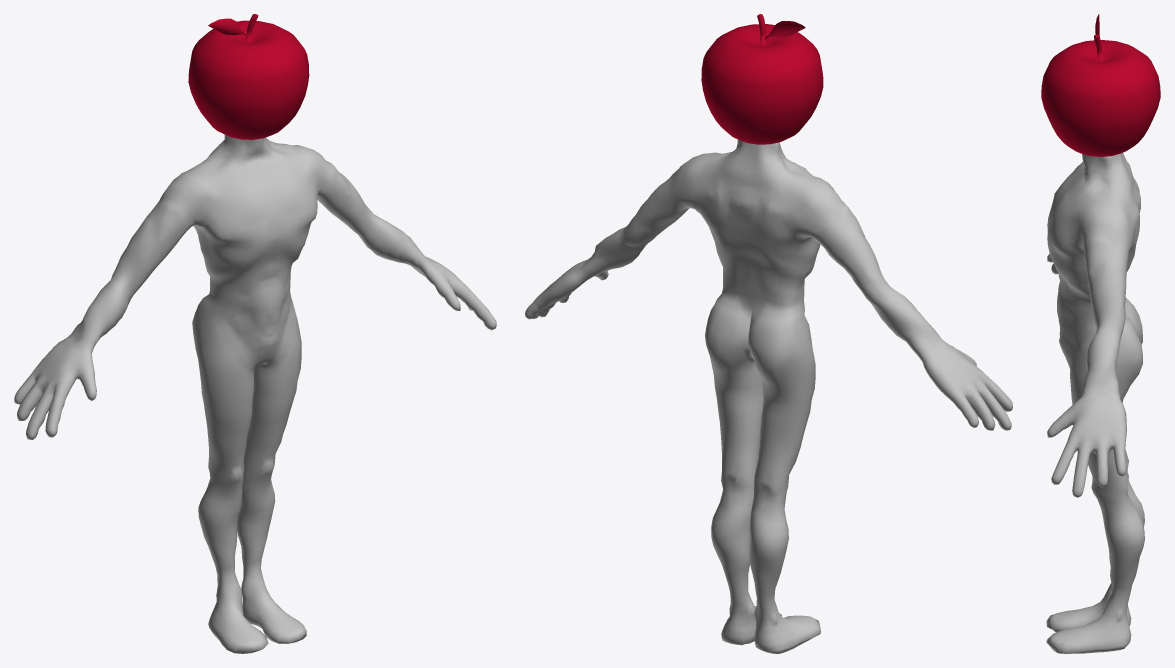
The model's file is appleHuman.fbx.
3 views of the same model, side by side, from view 1: azimuth 30°, elevation 25°; view 2: azimuth 150°, elevation 25°; view 3: azimuth 270°, elevation 25° (orthographic). The views are drawn at different scales.
Visible parts, largest first — view 1: body_mesh, apple_mesh; view 2: body_mesh, apple_mesh; view 3: body_mesh, apple_mesh.
Boxes of the visible parts, bbox=[...] form: body_mesh: bbox=[14, 135, 496, 653]; apple_mesh: bbox=[188, 14, 309, 139]; body_mesh: bbox=[525, 139, 1012, 653]; apple_mesh: bbox=[701, 14, 823, 144]; body_mesh: bbox=[1046, 153, 1144, 653]; apple_mesh: bbox=[1041, 14, 1160, 156].
Size of the model in its own units: 131 by 166 by 29.61.
